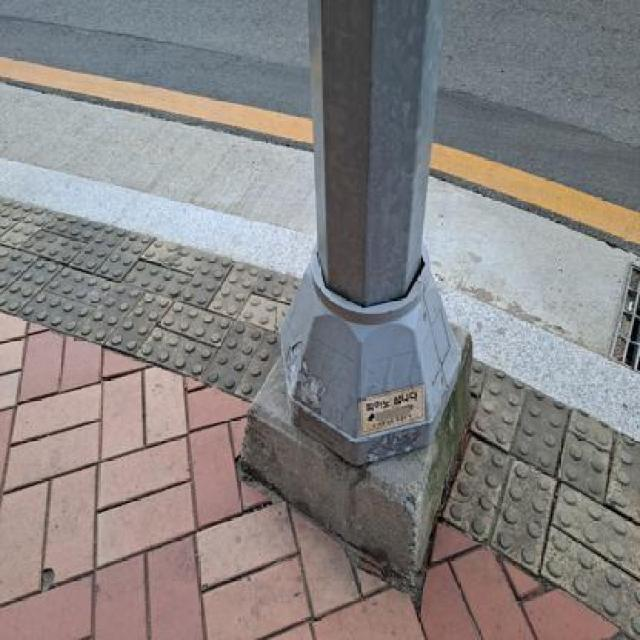pole: (272, 0, 482, 474)
